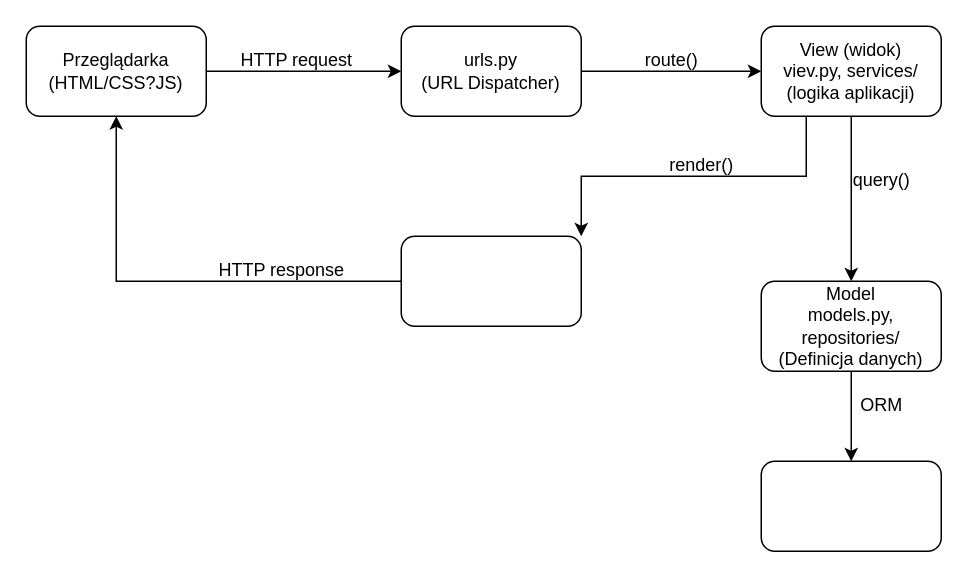
The diagram is 968 pixels wide and 578 high, and some of its shapes have lost their labels. Each missing label, with the centre of its shape:
"PostgresSQL (Baza danych)" goes at pixel 850 505.
"Template (szablony) templates/ (HTML z tagami Django)" goes at pixel 490 280.
